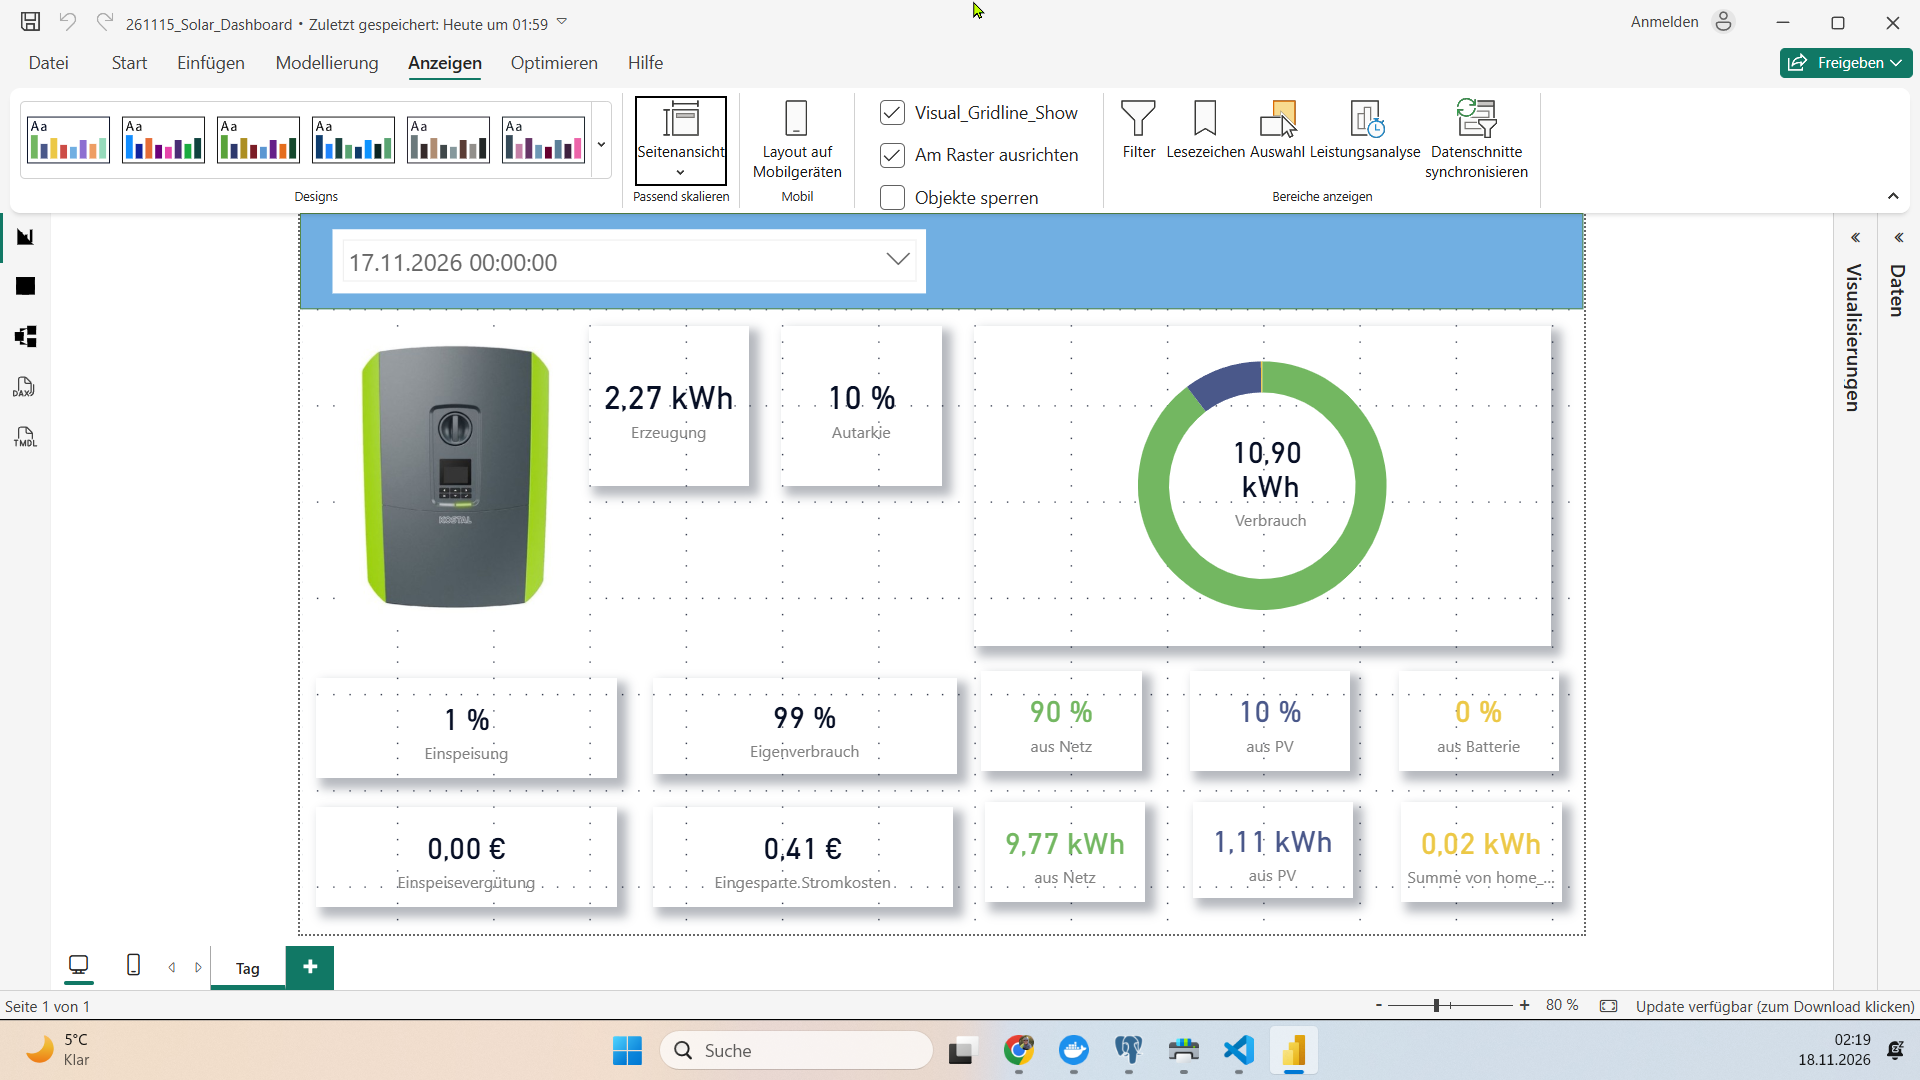

This screenshot's page, from the dashboard's own definition file:
{"tool":"powerbi","page":{"name":"Tag","canvas":[1280,720],"ordinal":0},"visuals":[{"type":"donutChart","title":"Stromverbrauch pro Tag","fields":{"Category":["energy_daily_donut.source"],"Y":["Sum(energy_daily_donut.Wert)"]},"box":[672,112,576,320],"z":0},{"type":"card","fields":{"Values":["_measures.home_bat_grid_pv"]},"box":[896,192,144,144],"z":1000},{"type":"card","fields":{"Values":["_measures.home_bat_kwh_pct_of_total"]},"box":[1095.4,456.8,160,100],"z":2000},{"type":"card","fields":{"Values":["_measures.home_pv_kwh_pct_ot_total"]},"box":[887.4,456.8,160,100],"z":3000},{"type":"card","fields":{"Values":["_measures.home_grid_kwh_pct_of_total"]},"box":[679.4,456.8,160,100],"z":4000},{"type":"card","fields":{"Values":["Sum(energy_daily.home_bat_kwh)"]},"box":[1098.7,587.2,160,100],"z":5000},{"type":"card","fields":{"Values":["Sum(energy_daily.home_grid_kwh)"]},"box":[682.7,587.2,160,100],"z":6000},{"type":"shape","box":[0,0,1280,96],"z":7000},{"type":"card","fields":{"Values":["Sum(energy_daily.home_pv_kwh)"]},"box":[890.7,587.2,160,96],"z":8000},{"type":"slicer","fields":{"Values":["dim_datum.Date"]},"box":[32,16,592,64],"z":9000},{"type":"image","box":[0,112,320,304],"z":10000},{"type":"card","title":"Autarkie","fields":{"Values":["_measures.autarky_pct_value"]},"box":[480,112,160,160],"z":11000},{"type":"card","fields":{"Values":["_measures.feed_in_grid_pct"]},"box":[16,464,300,100],"z":12000},{"type":"card","fields":{"Values":["_measures.yield_total"]},"box":[288,112,160,160],"z":13000},{"type":"card","fields":{"Values":["_measures.own_consumption_pct_value"]},"box":[352,464,304,96],"z":14000},{"type":"card","fields":{"Values":["_measures.self_consumption_savings"]},"box":[352,592,300,100],"z":15000},{"type":"card","fields":{"Values":["_measures.feed_in_grid_earnings"]},"box":[16,592,300,100],"z":16000}]}

Visuals, with their boxes on the page's 1280x720 design canvas (x1, y1, x2, y2). These are canvas units, not pixel positions in the 1920x1080 screenshot, which may show the page scaled, cropped or inside an application window:
"Stromverbrauch pro Tag" donutChart: bbox=(672, 112, 1248, 432)
card - _measures.home_bat_grid_pv: bbox=(896, 192, 1040, 336)
card - _measures.home_bat_kwh_pct_of_total: bbox=(1095, 457, 1255, 557)
card - _measures.home_pv_kwh_pct_ot_total: bbox=(887, 457, 1047, 557)
card - _measures.home_grid_kwh_pct_of_total: bbox=(679, 457, 839, 557)
card - Sum(energy_daily.home_bat_kwh): bbox=(1099, 587, 1259, 687)
card - Sum(energy_daily.home_grid_kwh): bbox=(683, 587, 843, 687)
shape: bbox=(0, 0, 1280, 96)
card - Sum(energy_daily.home_pv_kwh): bbox=(891, 587, 1051, 683)
slicer - dim_datum.Date: bbox=(32, 16, 624, 80)
image: bbox=(0, 112, 320, 416)
"Autarkie" card: bbox=(480, 112, 640, 272)
card - _measures.feed_in_grid_pct: bbox=(16, 464, 316, 564)
card - _measures.yield_total: bbox=(288, 112, 448, 272)
card - _measures.own_consumption_pct_value: bbox=(352, 464, 656, 560)
card - _measures.self_consumption_savings: bbox=(352, 592, 652, 692)
card - _measures.feed_in_grid_earnings: bbox=(16, 592, 316, 692)
